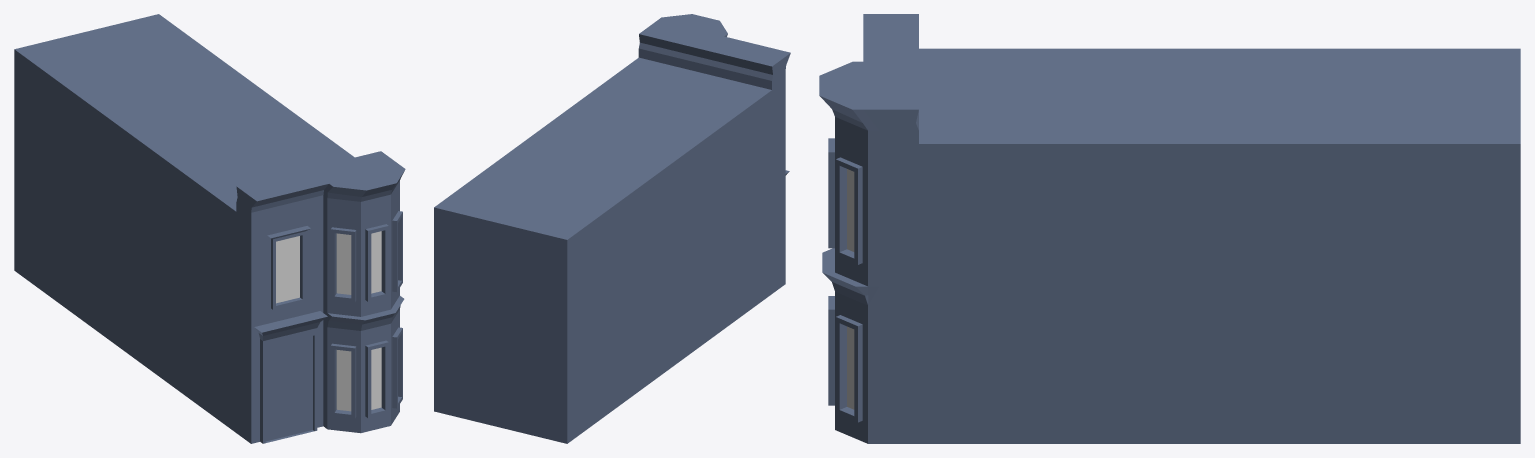
File: SF_house_blue.fbx
3 renders of one model, left to right at view 1: azimuth 30°, elevation 25°; view 2: azimuth 150°, elevation 25°; view 3: azimuth 270°, elevation 25°, orthographic. The views are drawn at different scales.
Parts seen in each view (by area): view 1: Cube.004; view 2: Cube.004; view 3: Cube.004.
Boxes of the visible parts, <box> form: Cube.004: <box>14,14,405,443</box>; Cube.004: <box>434,14,790,443</box>; Cube.004: <box>819,14,1520,443</box>.
Bounding box in the file's own units: 297 × 484 × 920.
